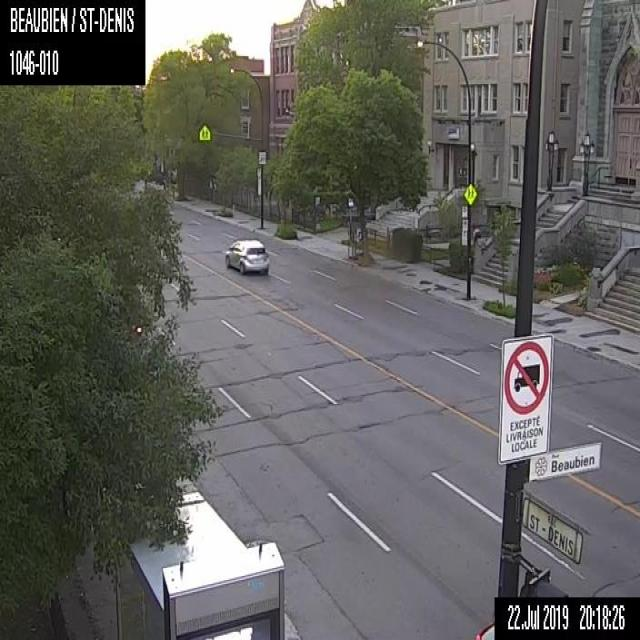vehicle: (224, 238, 268, 273)
